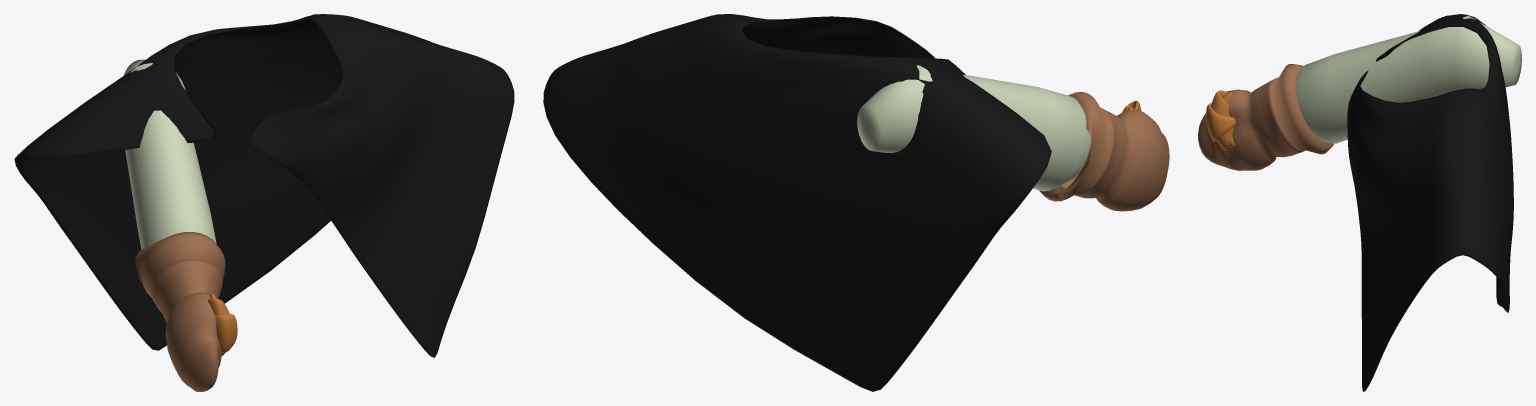
Rendered from Boomerang.fbx.
The picture shows the model from 3 angles, left to right: view 1: azimuth 30°, elevation 25°; view 2: azimuth 150°, elevation 25°; view 3: azimuth 270°, elevation 25°; orthographic projection. The views are drawn at different scales.
Parts seen in each view (by area): view 1: Poncho.002, Mano.002, BrazoR.002, Quaso.008; view 2: Poncho.002, BrazoR.002, Mano.002; view 3: Poncho.002, BrazoR.002, Mano.002, Quaso.008.
Part boxes in pixels (x1,y1,x2,y2): Poncho.002: (14,14,514,357); Mano.002: (135,232,225,391); BrazoR.002: (123,59,216,249); Quaso.008: (208,293,237,356); Poncho.002: (543,14,1051,391); BrazoR.002: (857,65,1091,191); Mano.002: (1039,92,1169,211); Poncho.002: (1347,14,1513,391); BrazoR.002: (1295,16,1521,143); Mano.002: (1198,64,1333,170); Quaso.008: (1206,90,1236,150).
Size of the model in its own units: 1.96 by 1.22 by 1.28.
